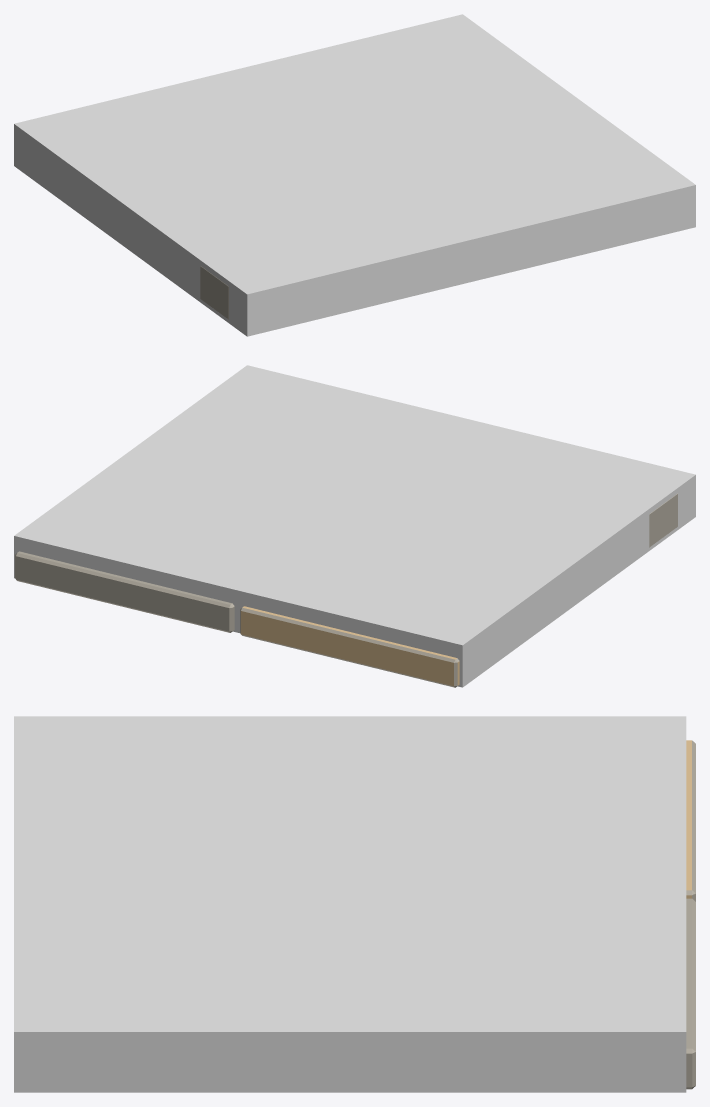
File: env_curb_a.glb
The picture shows the model from 3 angles, top to bottom: view 1: azimuth 30°, elevation 25°; view 2: azimuth 150°, elevation 25°; view 3: azimuth 270°, elevation 25°; orthographic projection. The views are drawn at different scales.
Visible parts, largest first — view 1: COL_env_curb_a_1, env_curb_a; view 2: COL_env_curb_a_1, env_curb_a; view 3: COL_env_curb_a_1, env_curb_a.
Part boxes in pixels (x1,y1,x2,y2): COL_env_curb_a_1: [14, 14, 695, 336]; env_curb_a: [200, 266, 228, 319]; COL_env_curb_a_1: [14, 365, 695, 687]; env_curb_a: [15, 493, 677, 687]; COL_env_curb_a_1: [14, 716, 686, 1092]; env_curb_a: [686, 740, 695, 1089].
Size of the model in its own units: 2 by 0.1804 by 1.83.
